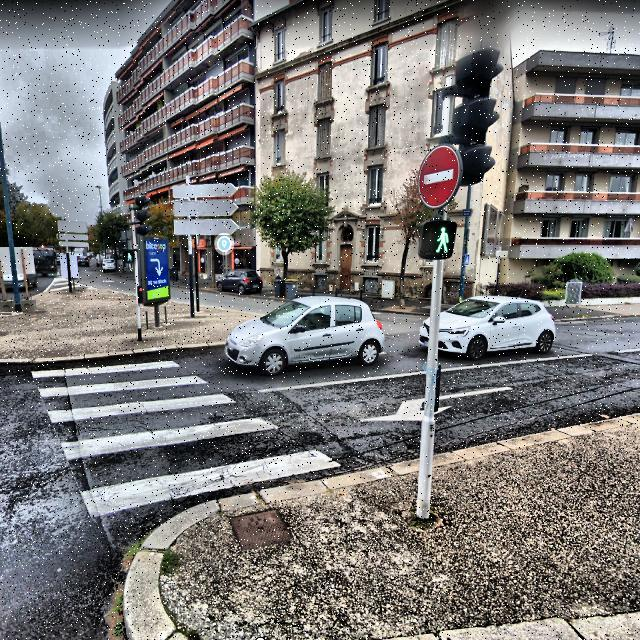green_light: (434, 224, 450, 254)
